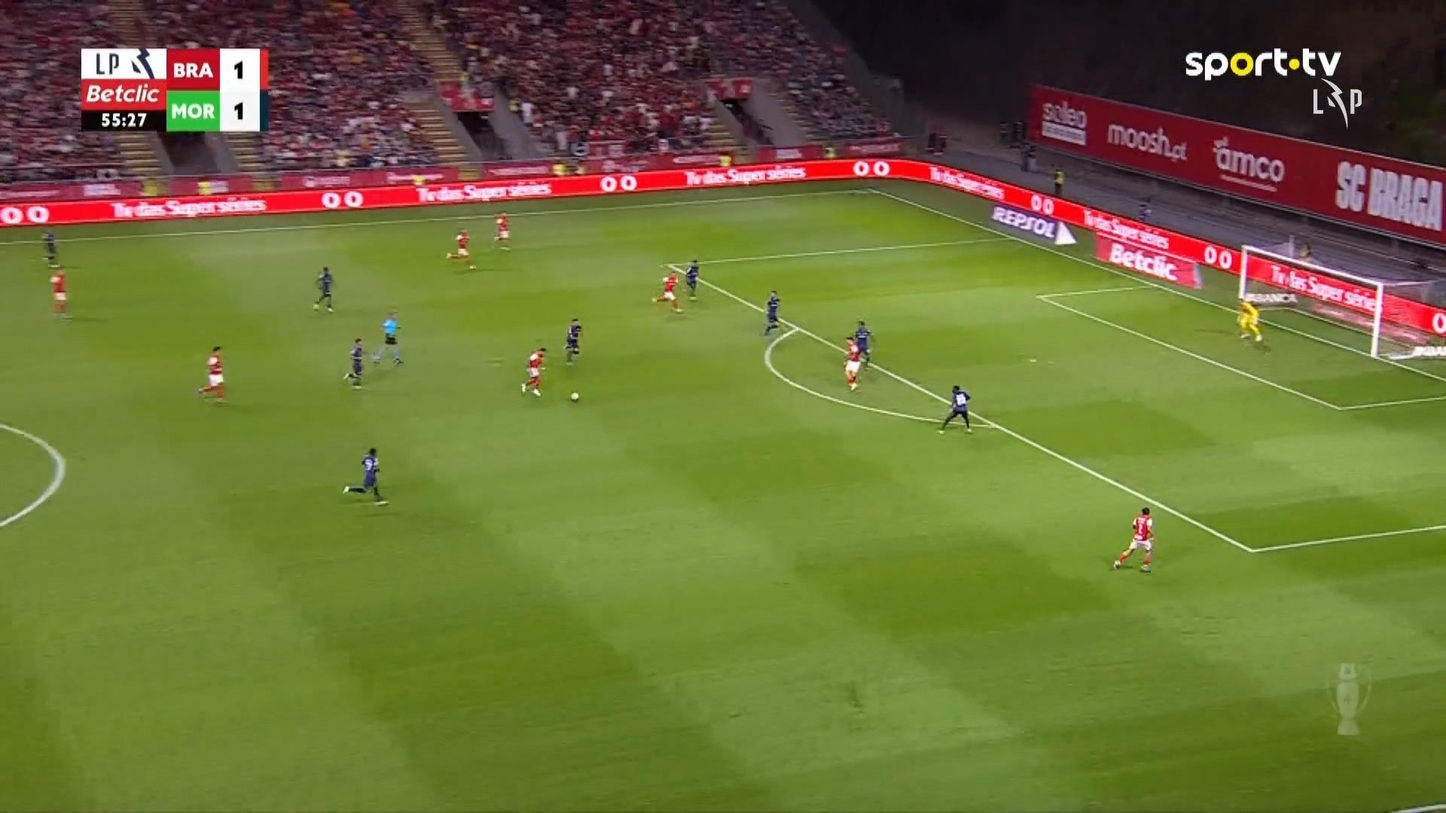ball: (570, 391, 578, 401)
goalkeeper: (1236, 297, 1262, 342)
player: (1112, 506, 1155, 572), (342, 446, 389, 506), (937, 384, 972, 434), (196, 345, 226, 403), (651, 269, 683, 313), (520, 346, 547, 397), (445, 228, 476, 270), (342, 337, 365, 388), (842, 335, 862, 391), (48, 266, 70, 316), (313, 265, 335, 312), (853, 319, 874, 365), (563, 317, 582, 366), (762, 289, 781, 335), (493, 211, 511, 251), (40, 227, 58, 265), (684, 258, 700, 300)
referee: (371, 311, 403, 365)
